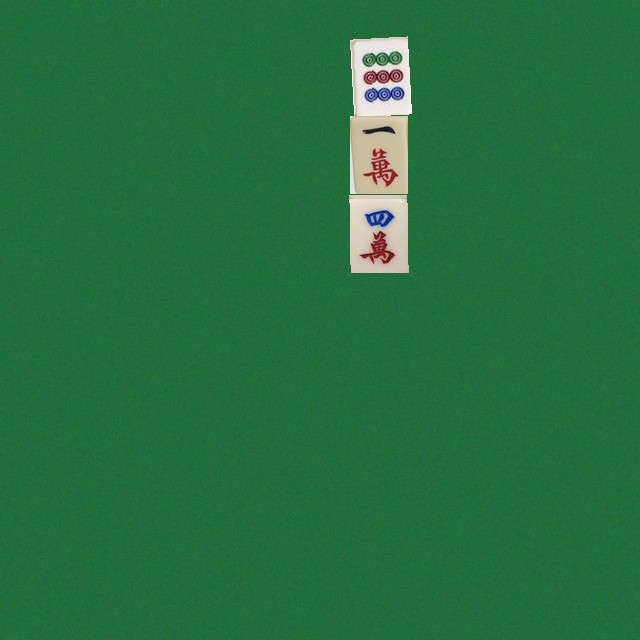tile: (349, 36, 407, 114), (349, 115, 407, 193), (349, 194, 407, 272)
